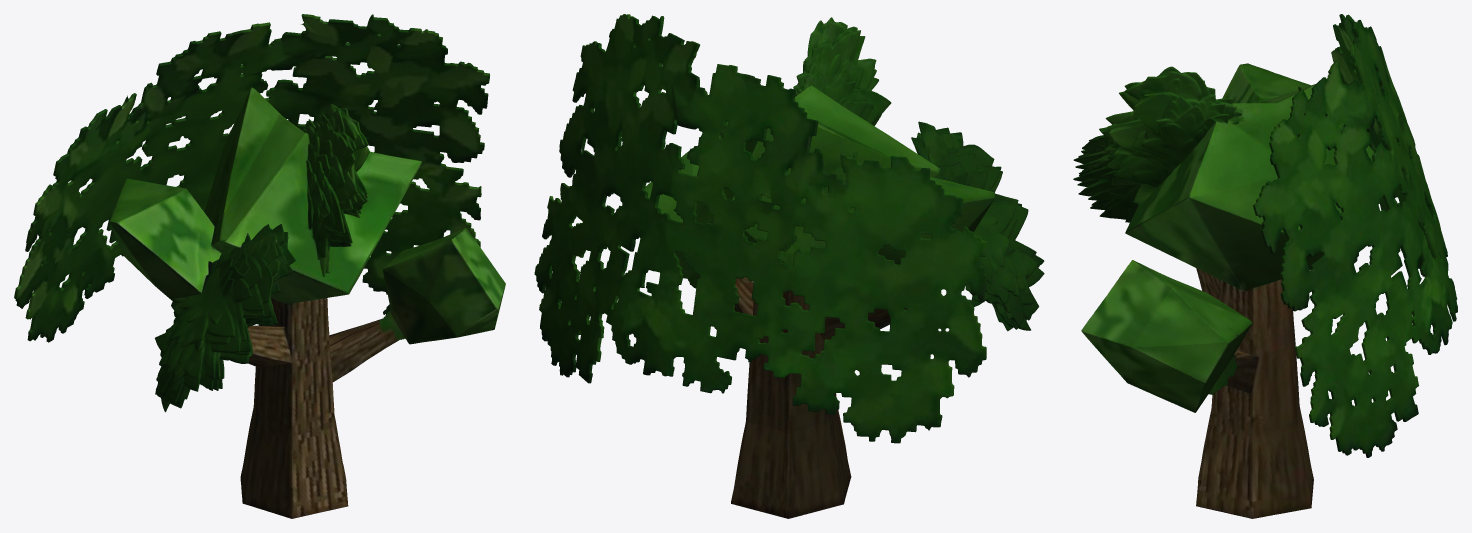
Rendered from Oak Tree.glb.
3 renders of one model, left to right at view 1: azimuth 30°, elevation 25°; view 2: azimuth 150°, elevation 25°; view 3: azimuth 270°, elevation 25°, orthographic. The views are drawn at different scales.
Parts seen in each view (by area): view 1: tripo_node_ed2200ad-3cab-4e31-9b92-176a3e7fd40b; view 2: tripo_node_ed2200ad-3cab-4e31-9b92-176a3e7fd40b; view 3: tripo_node_ed2200ad-3cab-4e31-9b92-176a3e7fd40b.
Boxes of the visible parts, bbox=[...] form: tripo_node_ed2200ad-3cab-4e31-9b92-176a3e7fd40b: bbox=[14, 14, 505, 518]; tripo_node_ed2200ad-3cab-4e31-9b92-176a3e7fd40b: bbox=[534, 14, 1044, 518]; tripo_node_ed2200ad-3cab-4e31-9b92-176a3e7fd40b: bbox=[1073, 14, 1457, 518].
Size of the model in its own units: 0.9844 by 0.9235 by 0.7041.
1 material, 1 textured.
